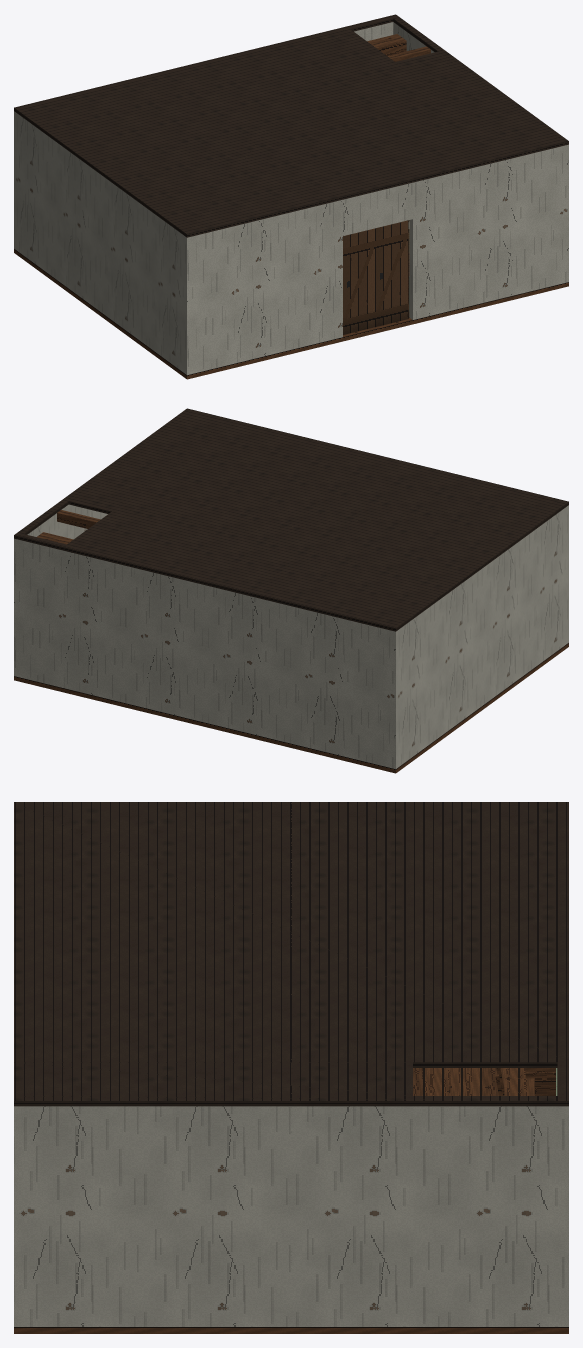
The model's file is venda.glb.
3 views of the same model, one above another, from view 1: azimuth 30°, elevation 25°; view 2: azimuth 150°, elevation 25°; view 3: azimuth 270°, elevation 25° (orthographic). The views are drawn at different scales.
Parts seen in each view (by area): view 1: sala-col, teto-col, moveis-col; view 2: sala-col, teto-col; view 3: teto-col, sala-col, moveis-col.
Boxes of the visible parts, box(x1,y1,x2,y2) form: sala-col: box(14, 22, 568, 379); teto-col: box(14, 14, 568, 237); moveis-col: box(367, 34, 406, 55); sala-col: box(14, 504, 568, 773); teto-col: box(14, 408, 568, 631); teto-col: box(14, 802, 568, 1106); sala-col: box(14, 1068, 568, 1333); moveis-col: box(504, 1068, 555, 1095).
Size of the model in its own units: 9.3 by 3.38 by 7.3.
32 materials, 32 textured.
